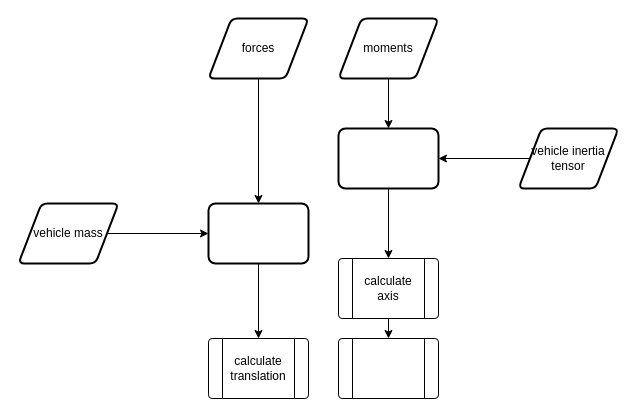
This 636x416 diagram has some shape labels left out. Here are the shapes that lost their labels. From the top down, the box of each, then its label:
(337, 127, 439, 189): calculate angular acceleration
(207, 202, 309, 264): calculate linear acceleration
(338, 338, 438, 398): calculate rotation
